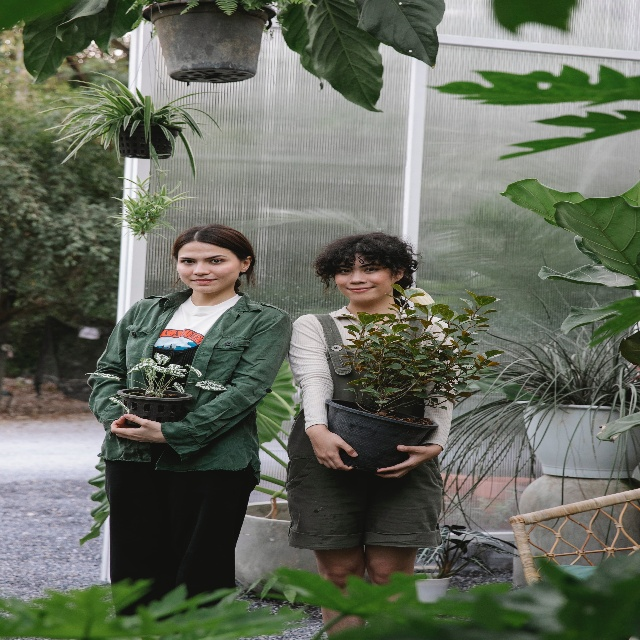Sin_guantes: (308, 426, 358, 471), (375, 444, 430, 480), (110, 412, 166, 444)
